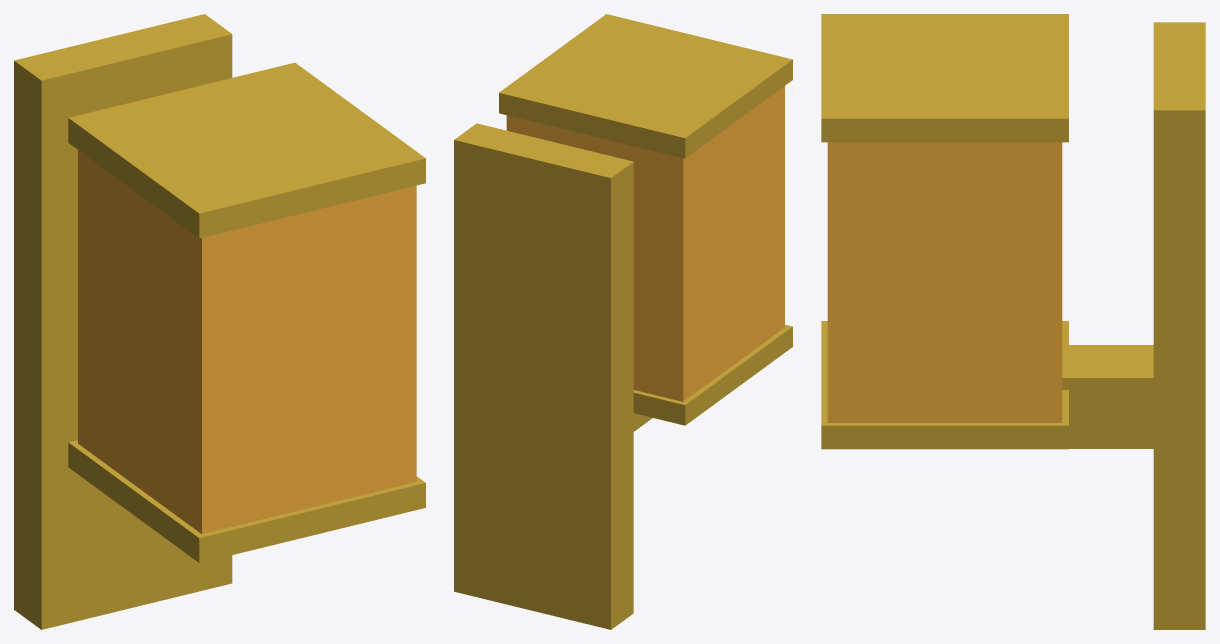
Rendered from HotelLobby_WallSconce.obj.
3 views of the same model, side by side, from view 1: azimuth 30°, elevation 25°; view 2: azimuth 150°, elevation 25°; view 3: azimuth 270°, elevation 25° (orthographic). The views are drawn at different scales.
Size of the model in its own units: 0.19 by 0.44 by 0.295.
